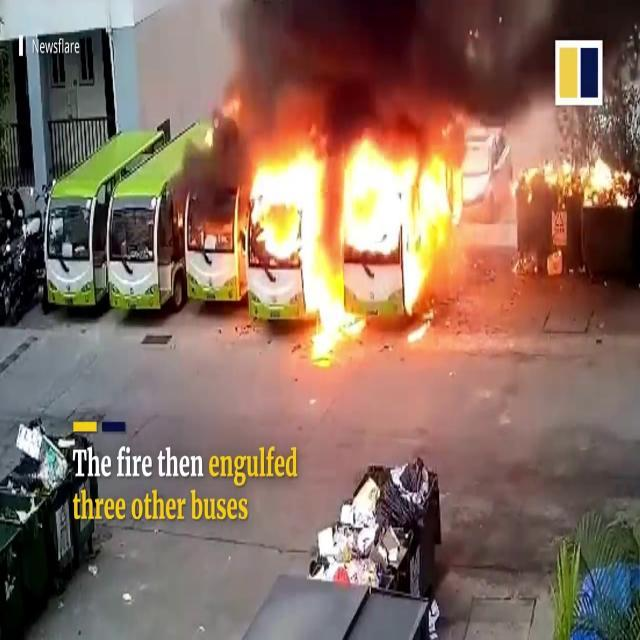Fire: (239, 130, 459, 337), (518, 140, 628, 210)
Smoke: (202, 0, 550, 137)
